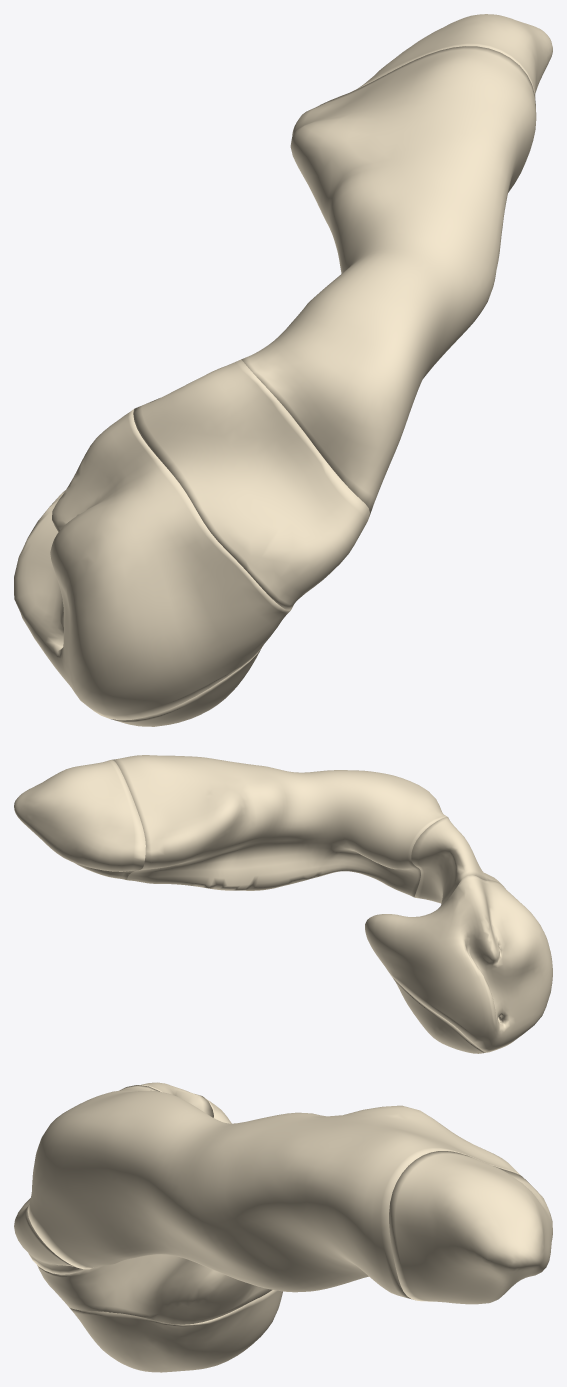
The model's file is vh_m_pancreas-100.glb.
3 renders of one model, top to bottom at view 1: azimuth 30°, elevation 25°; view 2: azimuth 150°, elevation 25°; view 3: azimuth 270°, elevation 25°, orthographic. The views are drawn at different scales.
Visible parts, largest first — view 1: VH_M_body_of_pancreas, VH_M_head_of_pancreas, VH_M_neck_of_pancreas, VH_M_tail_of_pancreas, VH_M_uncinate_process_of_the_pancreas; view 2: VH_M_body_of_pancreas, VH_M_head_of_pancreas, VH_M_tail_of_pancreas, VH_M_neck_of_pancreas, VH_M_uncinate_process_of_the_pancreas; view 3: VH_M_body_of_pancreas, VH_M_tail_of_pancreas, VH_M_head_of_pancreas, VH_M_uncinate_process_of_the_pancreas, VH_M_neck_of_pancreas.
Boxes of the visible parts, box(x1,y1,x2,y2) form: VH_M_body_of_pancreas: box(241, 46, 536, 516); VH_M_head_of_pancreas: box(14, 409, 290, 720); VH_M_neck_of_pancreas: box(133, 359, 369, 610); VH_M_tail_of_pancreas: box(334, 14, 552, 98); VH_M_uncinate_process_of_the_pancreas: box(111, 646, 262, 726); VH_M_body_of_pancreas: box(112, 755, 447, 897); VH_M_head_of_pancreas: box(365, 875, 552, 1052); VH_M_tail_of_pancreas: box(14, 759, 145, 879); VH_M_neck_of_pancreas: box(411, 817, 502, 905); VH_M_uncinate_process_of_the_pancreas: box(392, 977, 485, 1053); VH_M_body_of_pancreas: box(28, 1085, 520, 1299); VH_M_tail_of_pancreas: box(389, 1151, 552, 1304); VH_M_head_of_pancreas: box(37, 1096, 271, 1324); VH_M_uncinate_process_of_the_pancreas: box(70, 1290, 282, 1372); VH_M_neck_of_pancreas: box(14, 1082, 213, 1274).
Bounding box in the file's own units: 0.1115 × 0.072 × 0.0836.
